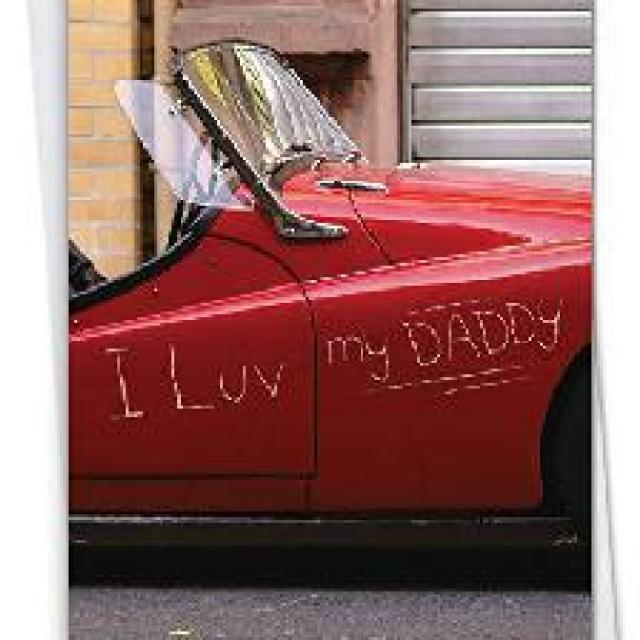damaged: (102, 300, 574, 426)
